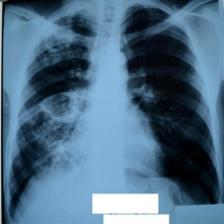tuberculosis: (7, 1, 223, 213)
